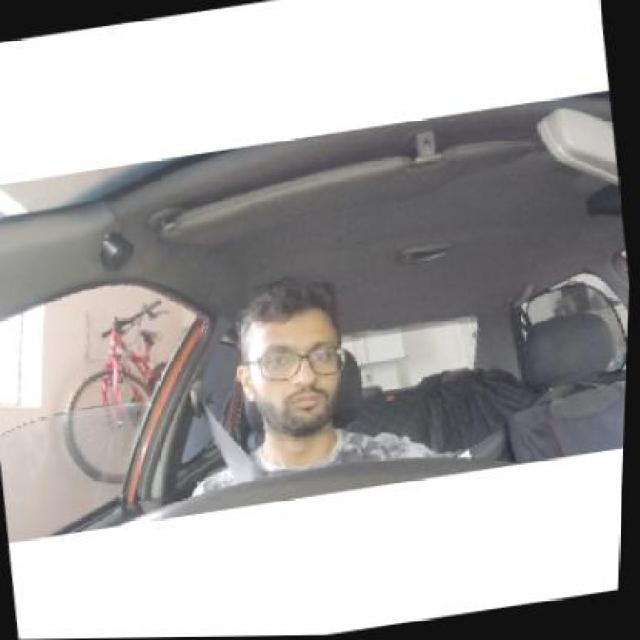person: (224, 274, 356, 438)
